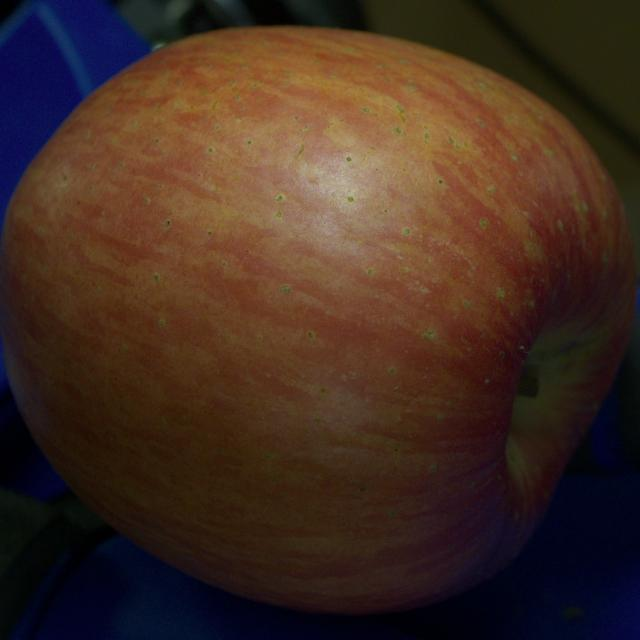apple: (0, 28, 636, 614)
